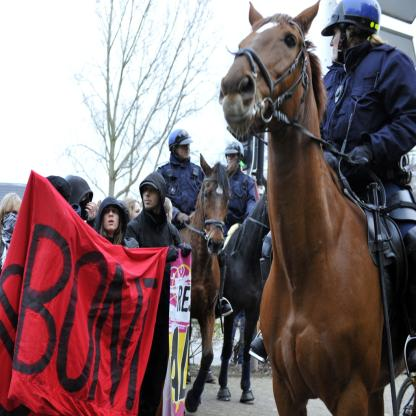Helmet: (325, 8, 382, 50), (166, 128, 192, 166), (223, 138, 242, 169)
